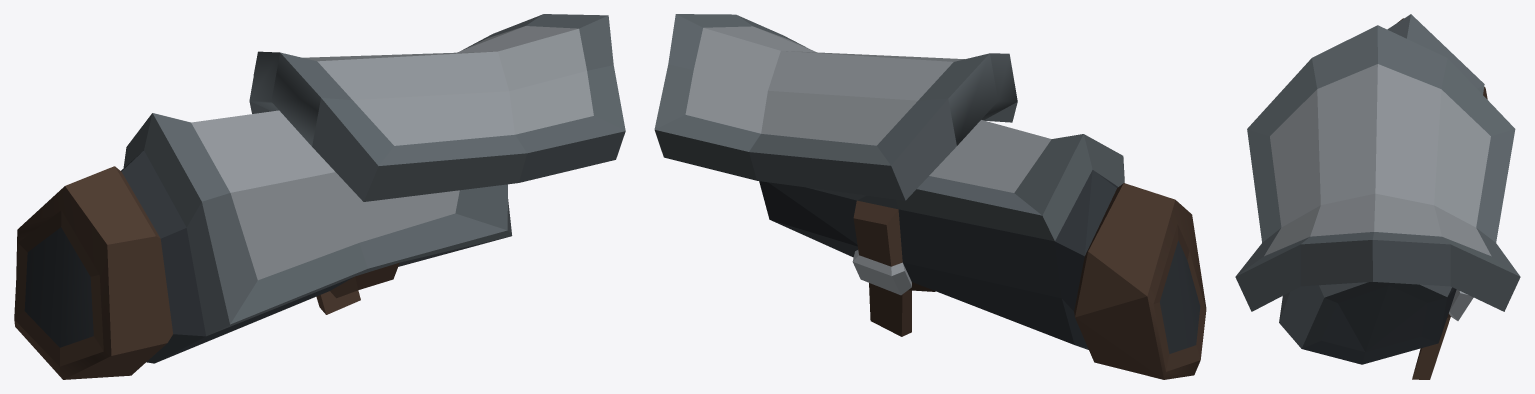
Rendered from Chr_ArmLowerLeft_Female_11_Static.fbx.
3 views of the same model, side by side, from view 1: azimuth 30°, elevation 25°; view 2: azimuth 150°, elevation 25°; view 3: azimuth 270°, elevation 25° (orthographic). The views are drawn at different scales.
Visible parts, largest first — view 1: Chr_ArmLowerLeft_Female_11_Static; view 2: Chr_ArmLowerLeft_Female_11_Static; view 3: Chr_ArmLowerLeft_Female_11_Static.
Part boxes in pixels (x1,y1,x2,y2): Chr_ArmLowerLeft_Female_11_Static: (14, 14, 625, 379); Chr_ArmLowerLeft_Female_11_Static: (654, 14, 1206, 379); Chr_ArmLowerLeft_Female_11_Static: (1235, 14, 1520, 379).
Bounding box in the file's own units: 0.3682 × 0.186 × 0.1541.
